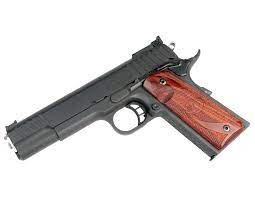weapon: (1, 32, 255, 173)
